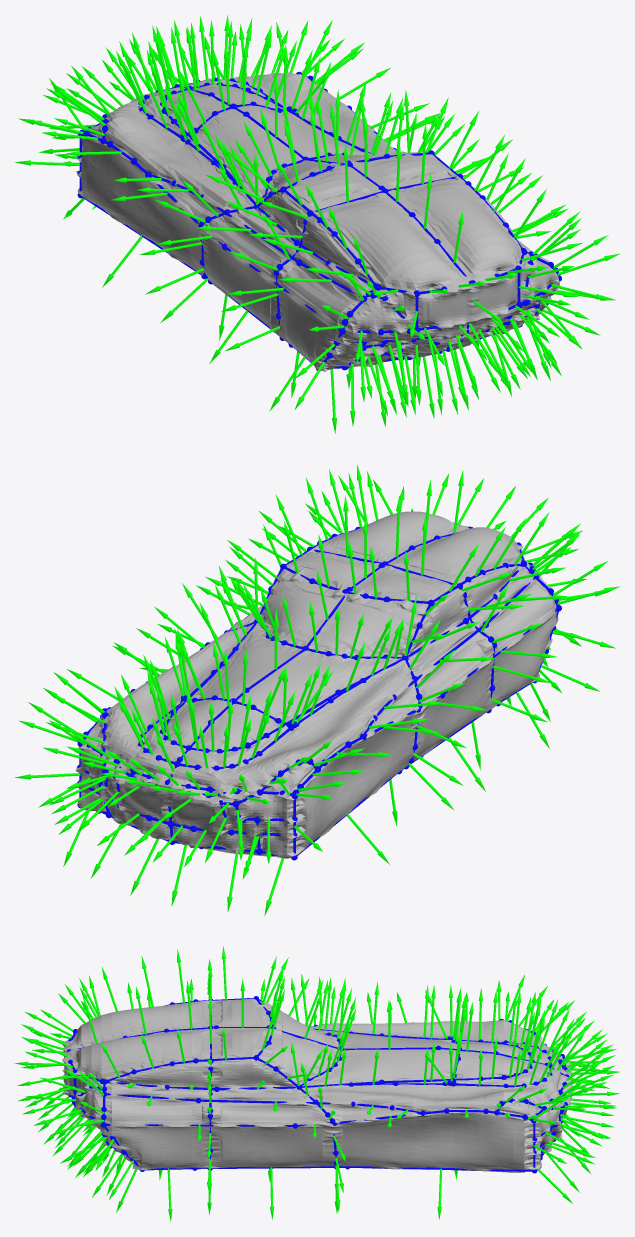
File: t2f_car_93.gltf
3 renders of one model, top to bottom at view 1: azimuth 30°, elevation 25°; view 2: azimuth 150°, elevation 25°; view 3: azimuth 270°, elevation 25°, orthographic. The views are drawn at different scales.
Size of the model in its own units: 0.5696 by 0.413 by 1.1.
